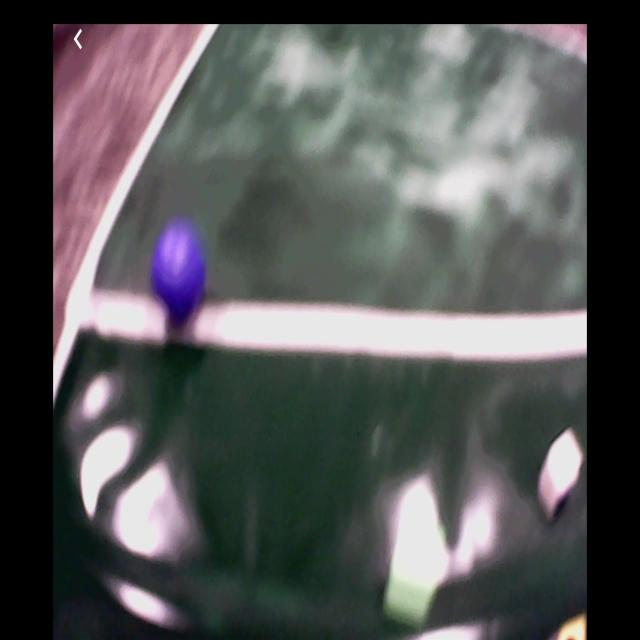ball: (150, 221, 204, 317)
